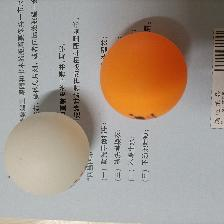WhiteBall: (4, 111, 89, 195)
YellowBall: (98, 31, 188, 121)
